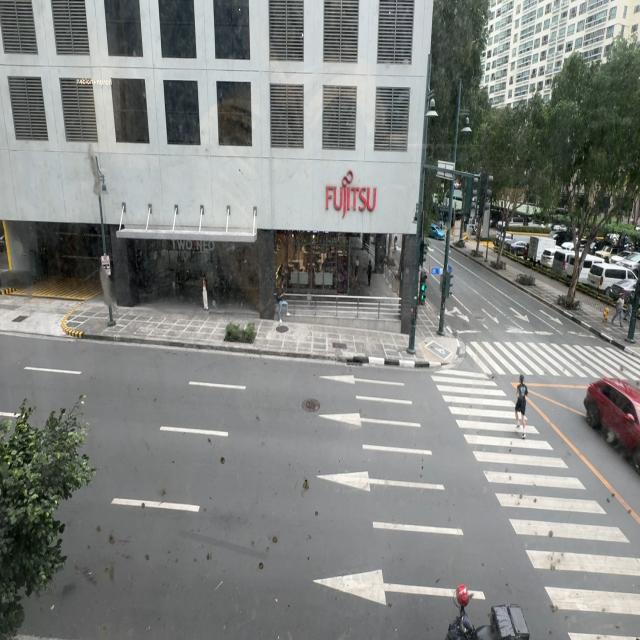crossing: (513, 362, 529, 439)
pedestrain: (616, 282, 634, 333), (277, 282, 290, 324), (202, 276, 209, 311)
